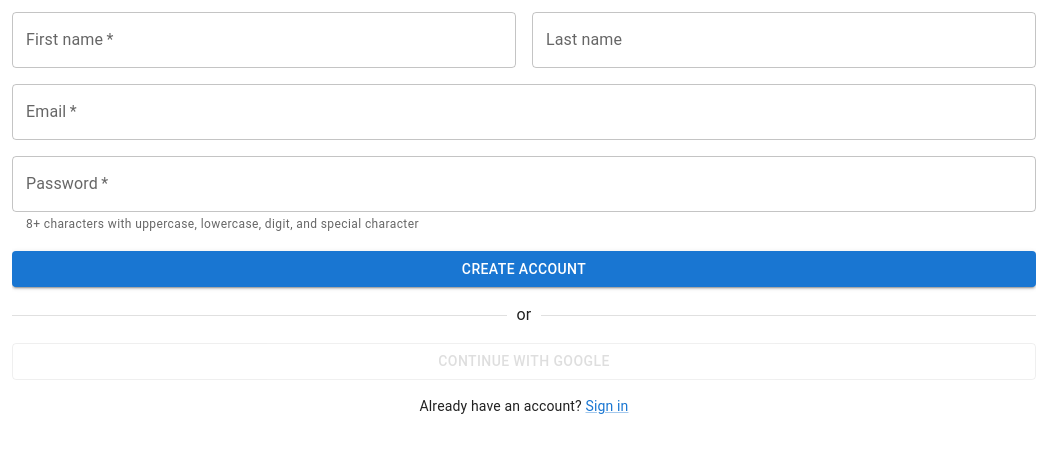
Test: RegisterForm › shows an error message when registration fails
Type "Jane" into the field labelled "First name *".
click(264, 40); type("Jane")  # box [12,12,516,68]
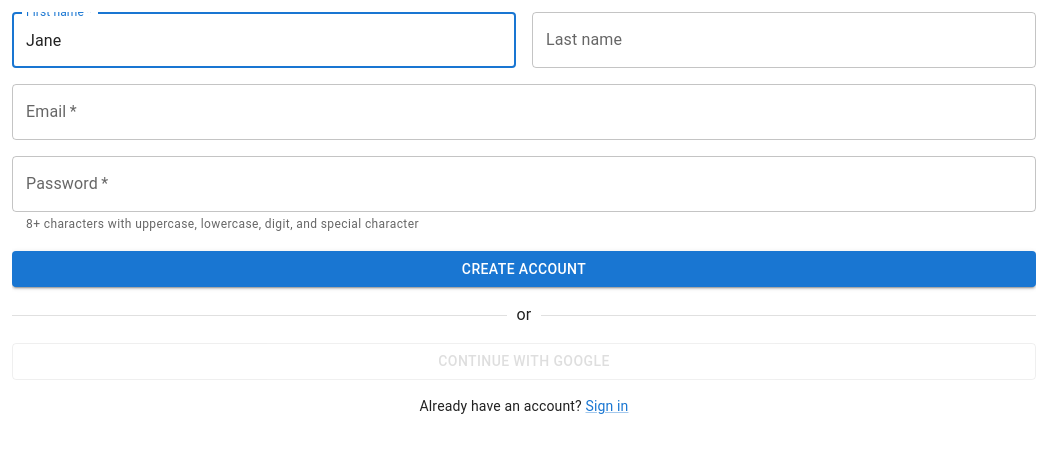
Type "jane@example.com" into the field labelled "Email *".
click(524, 112); type("jane@example.com")  # box [12,84,1036,140]
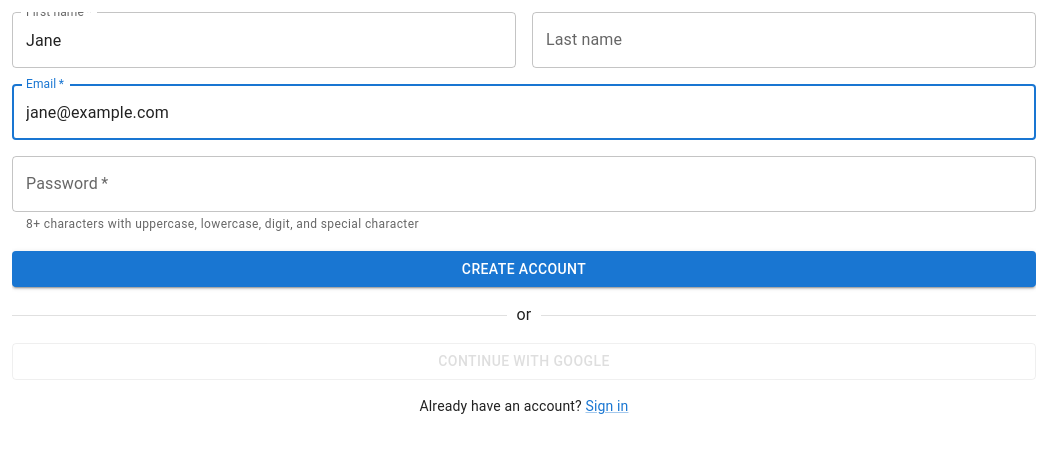
Type "Secret1!" into the password field labelled "Password *".
click(524, 184); type("Secret1!")  # box [12,156,1036,212]
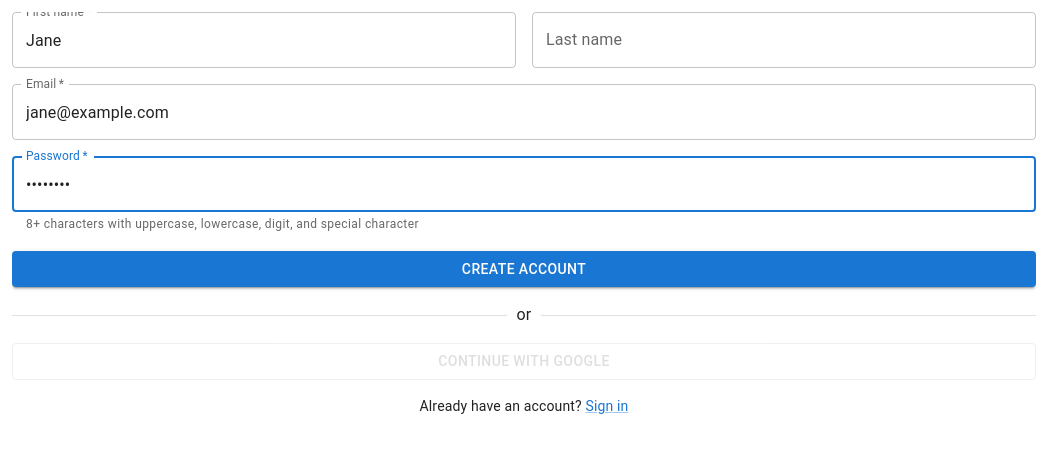
Click the button "Create account".
click(524, 269)  # box [12,251,1036,287]
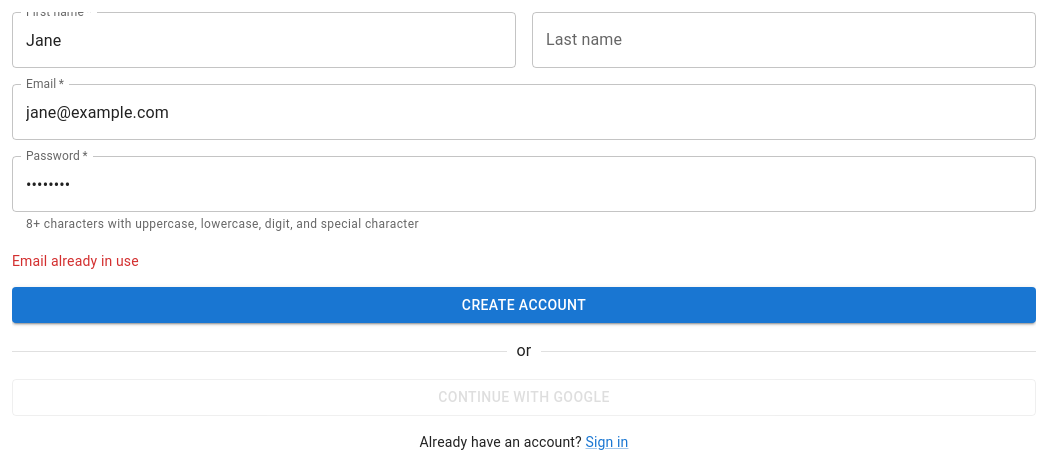
Now the text "Email already in use" is shown, box [12,253,139,269]
